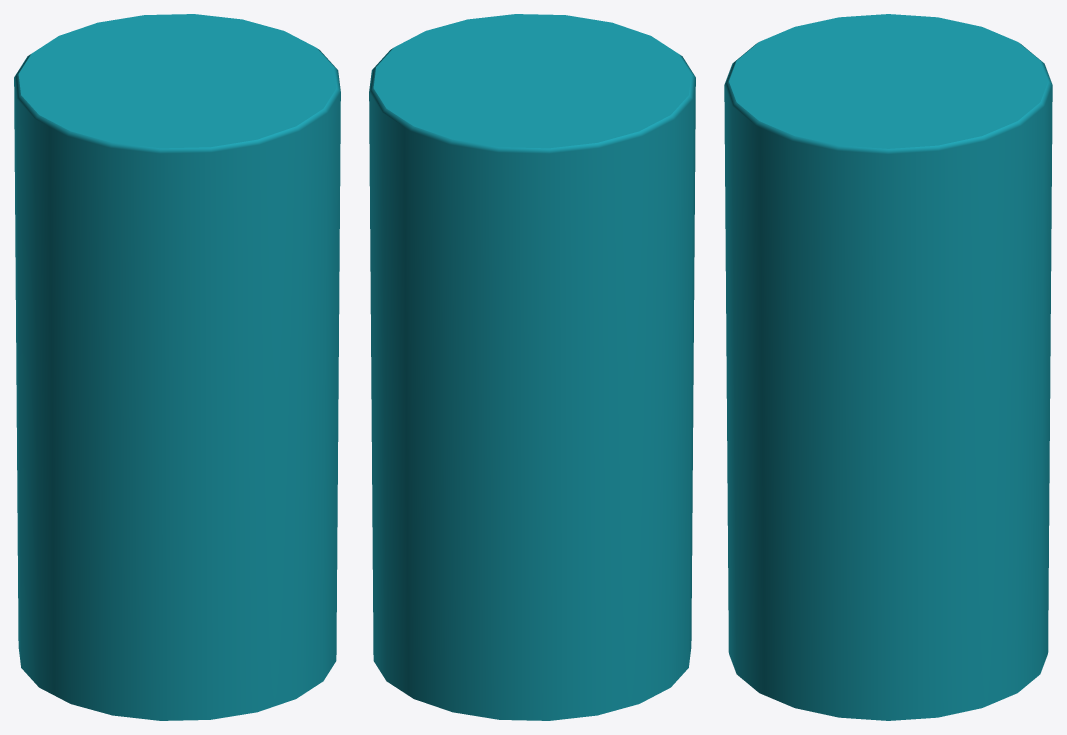
The model's file is Blocker_A.fbx.
3 renders of one model, left to right at view 1: azimuth 30°, elevation 25°; view 2: azimuth 150°, elevation 25°; view 3: azimuth 270°, elevation 25°, orthographic.
Parts seen in each view (by area): view 1: Blocker_A; view 2: Blocker_A; view 3: Blocker_A.
Part boxes in pixels (x1,y1,x2,y2): Blocker_A: (14,14,340,720); Blocker_A: (369,14,695,720); Blocker_A: (724,14,1052,720).
Size of the model in its own units: 1.56 by 2.99 by 1.56.
